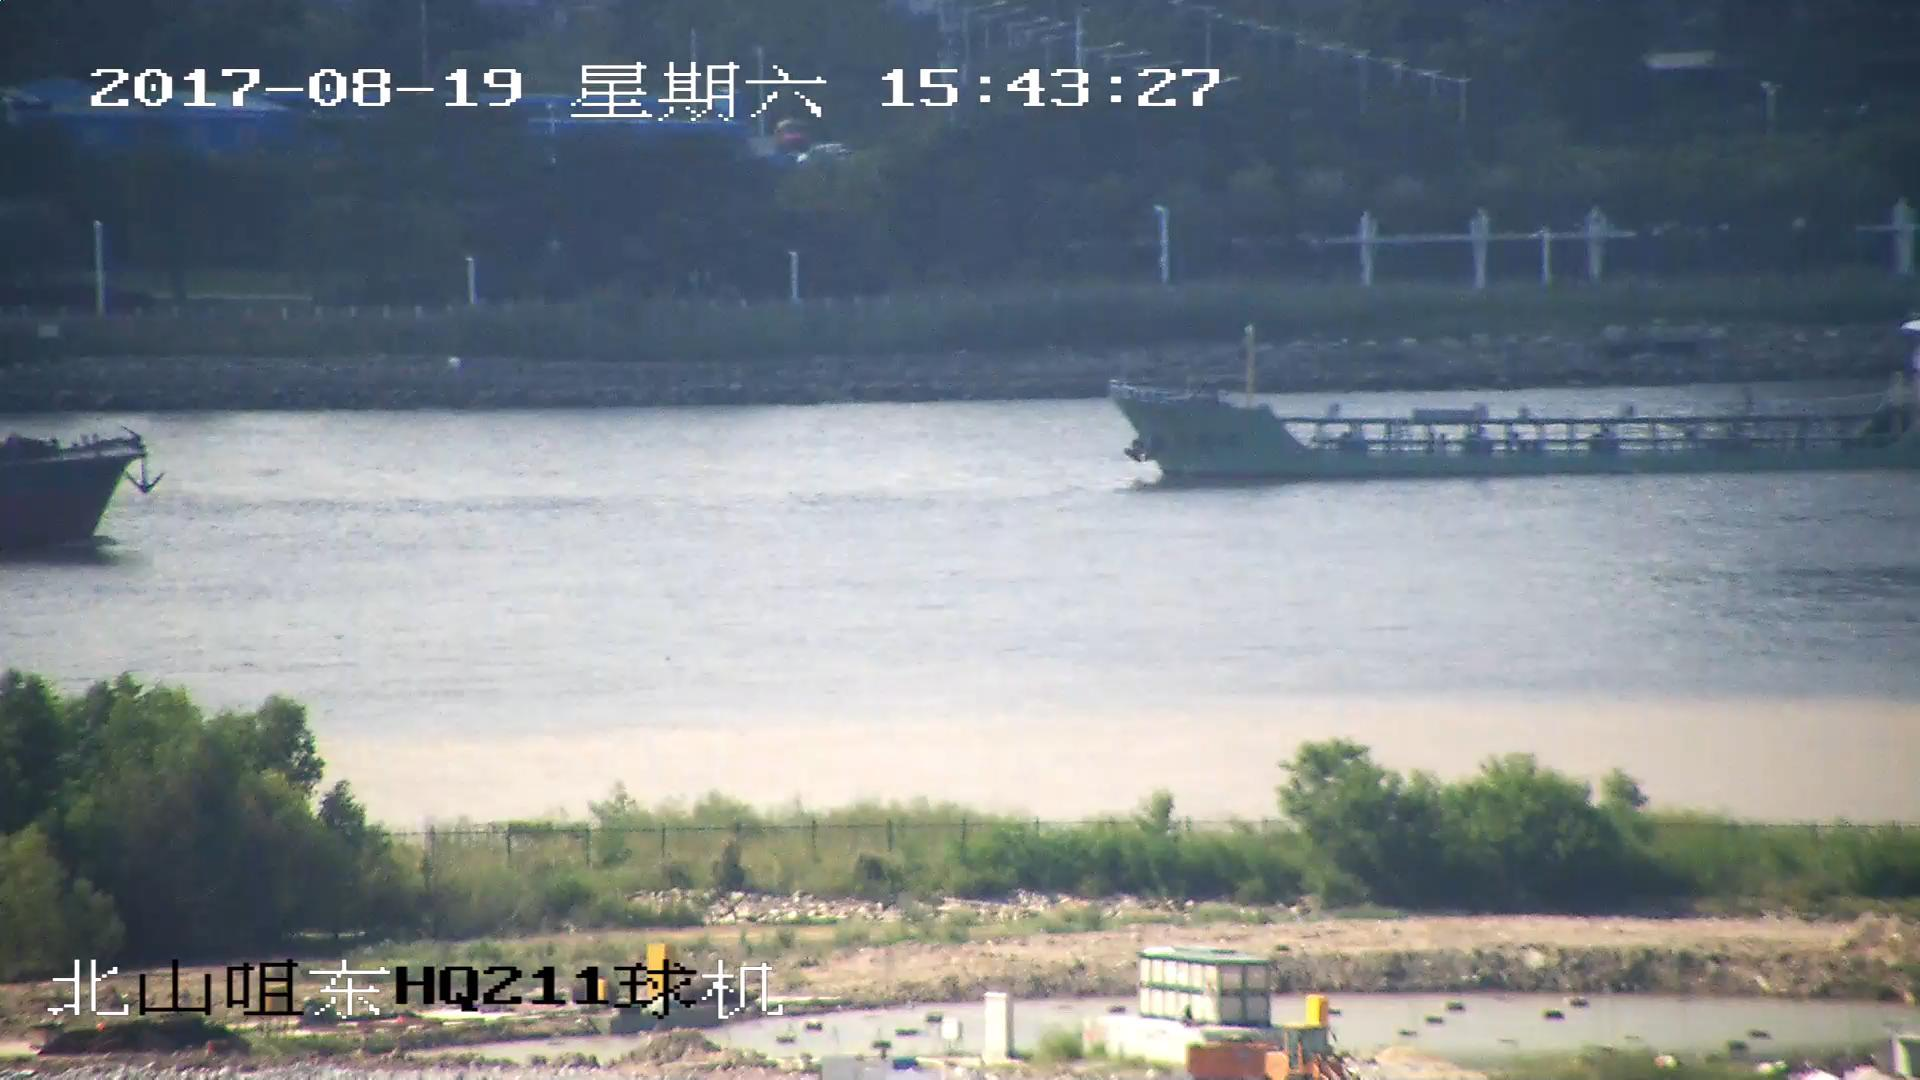Ship: (1112, 331, 1920, 483), (3, 431, 158, 545)
